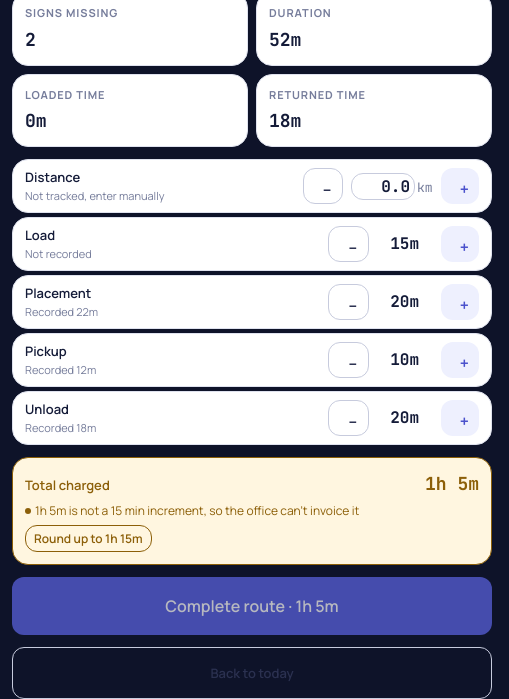
Operator Finalise page › blocks completion while the distance is
(page scrolled)
Click the button "Round up to 1h 15m" at (88, 539), box top-left (25, 526), bottom-right (152, 552)
(page scrolled)
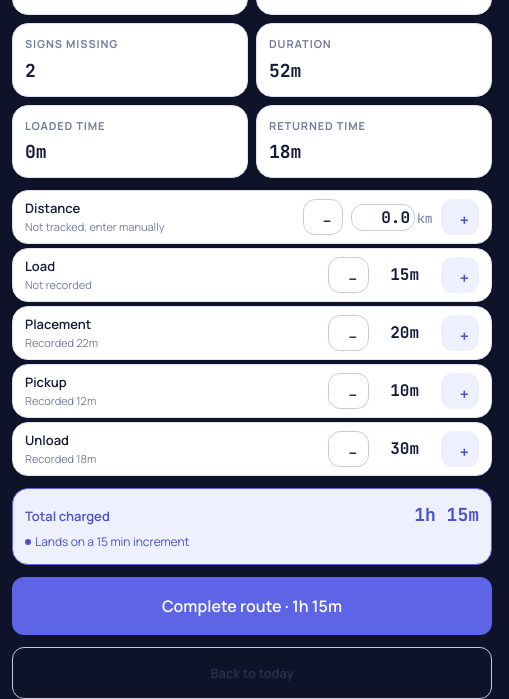
Clear the field named "Distance (km)" at (383, 217), box top-left (351, 204), bottom-right (415, 231)
(page scrolled)
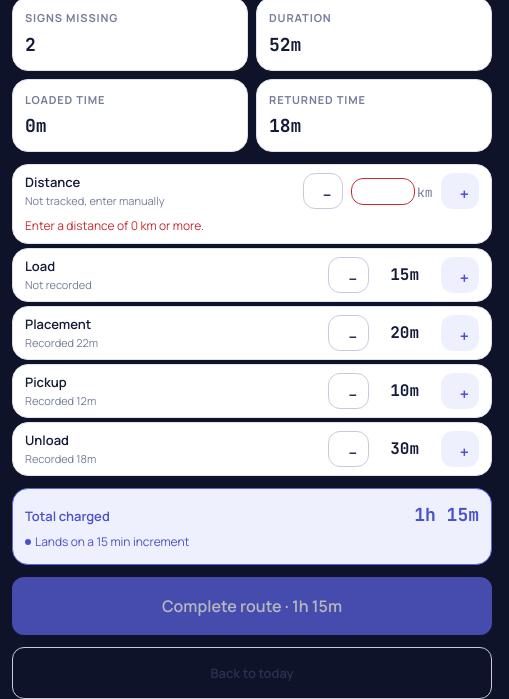
Expected: the message reads "Enter a distance of 0 km or more.", top-left (25, 217), bottom-right (204, 234)
Expected: the button "Complete route · 1h 15m" is disabled, top-left (12, 578), bottom-right (492, 636)
